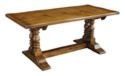obstacle: (6, 5, 118, 69)
